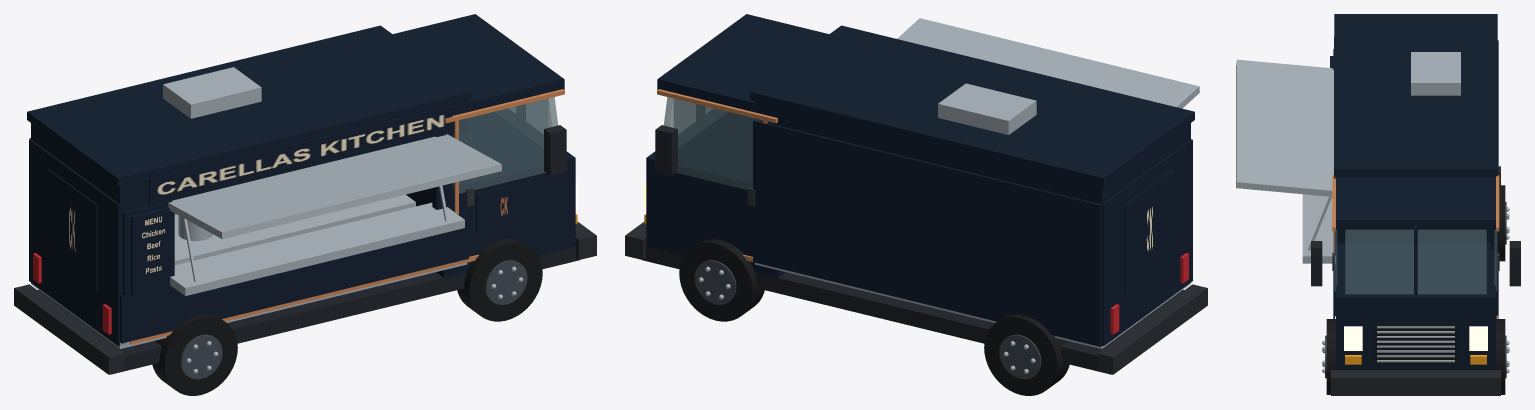
The picture shows the model from 3 angles, left to right: view 1: azimuth 30°, elevation 25°; view 2: azimuth 150°, elevation 25°; view 3: azimuth 270°, elevation 25°; orthographic projection. The views are drawn at different scales.
Visible parts, largest first — view 1: Roof, Open serving awning, Serving lower panel, Cab lower body, Serving sill, Rear wall, Cab roof, Carellas Kitchen sign, Tire (×2), Chassis, Cab side glass, Rear monogram (+14 smaller); view 2: Far body panel, Roof, Cab lower body, Cab roof, Rear wall, Brand fascia, Open serving awning, Tire (×2), Chassis, Cab side glass, Rear monogram, Rear bumper (+7 smaller); view 3: Roof, Cab lower body, Open serving awning, Windshield, Cab roof, Front bumper, Front grille, Roof vent, Cab rear wall, Tire (×3), Serving sill, Side mirror (×2) (+4 smaller).
Part boxes in pixels (left/top/right/bottom): Roof: left=27, top=25, right=471, bottom=186; Open serving awning: left=168, top=133, right=501, bottom=239; Serving lower panel: left=120, top=210, right=468, bottom=343; Cab lower body: left=406, top=112, right=575, bottom=277; Serving sill: left=170, top=202, right=464, bottom=295; Rear wall: left=29, top=139, right=125, bottom=346; Cab roof: left=393, top=14, right=564, bottom=115; Carellas Kitchen sign: left=149, top=105, right=452, bottom=205; Tire (×2): left=152, top=239, right=542, bottom=395; Chassis: left=38, top=245, right=579, bottom=374; Cab side glass: left=453, top=98, right=548, bottom=193; Rear monogram: left=48, top=169, right=97, bottom=292; Far body panel: left=753, top=120, right=1101, bottom=346; Roof: left=750, top=25, right=1194, bottom=186; Cab lower body: left=646, top=112, right=785, bottom=277; Cab roof: left=657, top=14, right=828, bottom=117; Rear wall: left=1102, top=139, right=1192, bottom=346; Brand fascia: left=754, top=101, right=1190, bottom=204; Open serving awning: left=897, top=18, right=1199, bottom=108; Tire (×2): left=679, top=239, right=1069, bottom=395; Chassis: left=642, top=245, right=1183, bottom=374; Cab side glass: left=673, top=98, right=767, bottom=189; Rear monogram: left=1124, top=169, right=1173, bottom=292; Rear bumper: left=1097, top=284, right=1207, bottom=374; Roof: left=1334, top=14, right=1497, bottom=176; Cab lower body: left=1336, top=243, right=1495, bottom=369; Open serving awning: left=1236, top=59, right=1333, bottom=196; Windshield: left=1345, top=229, right=1486, bottom=294; Cab roof: left=1336, top=177, right=1495, bottom=229; Front bumper: left=1331, top=370, right=1500, bottom=395; Front grille: left=1375, top=323, right=1456, bottom=364; Roof vent: left=1411, top=52, right=1460, bottom=95; Cab rear wall: left=1336, top=229, right=1490, bottom=243; Tire (×3): left=1326, top=185, right=1505, bottom=394; Serving sill: left=1302, top=194, right=1335, bottom=263; Side mirror (×2): left=1311, top=241, right=1520, bottom=286.
Bounding box in the file's own units: 7.59 × 3.67 × 4.27.
112 materials, 4 textured.
